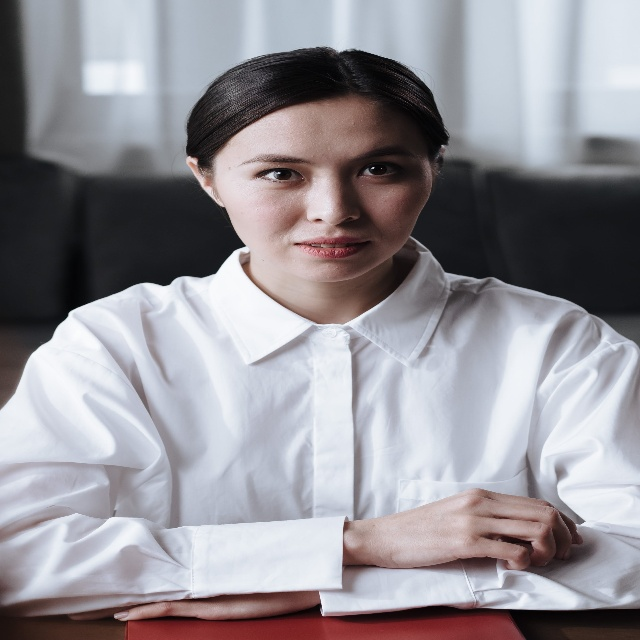Sin_guantes: (374, 487, 584, 579), (71, 589, 320, 624)
